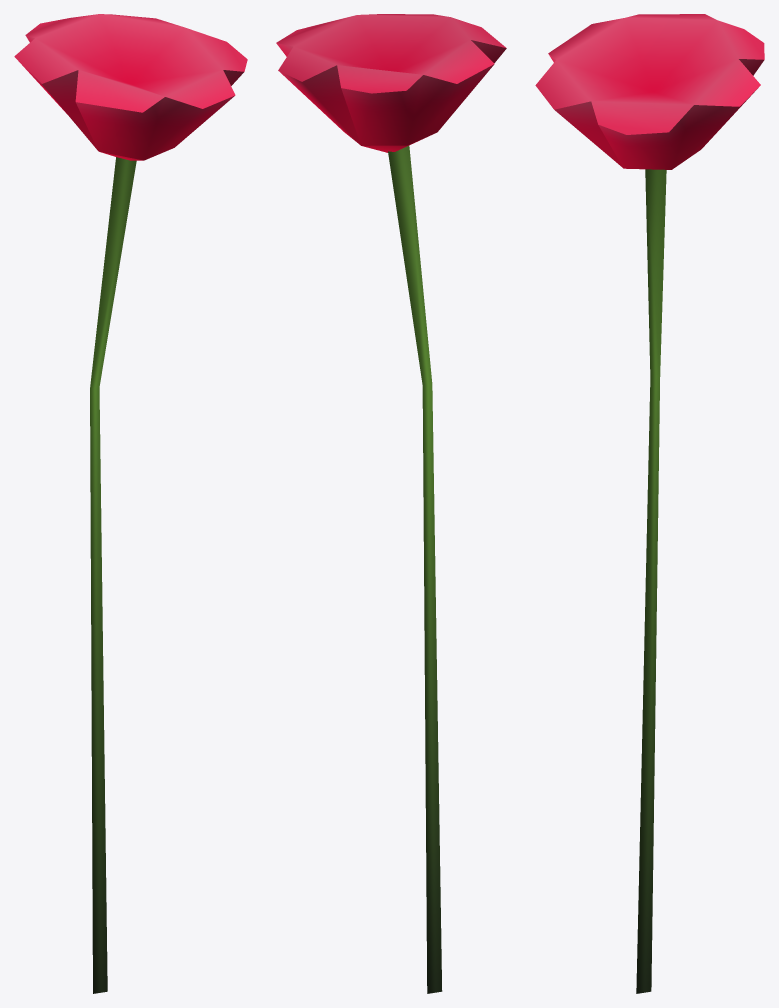
The model's file is Flower_3I.fbx.
The picture shows the model from 3 angles, left to right: view 1: azimuth 30°, elevation 25°; view 2: azimuth 150°, elevation 25°; view 3: azimuth 270°, elevation 25°; orthographic projection. The views are drawn at different scales.
Visible parts, largest first — view 1: Flower_3I; view 2: Flower_3I; view 3: Flower_3I.
Boxes of the visible parts, x1=… form: Flower_3I: x1=14, y1=14, x2=247, y2=993; Flower_3I: x1=276, y1=14, x2=506, y2=993; Flower_3I: x1=535, y1=14, x2=764, y2=993.
Size of the model in its own units: 14.18 by 63.28 by 13.71.
